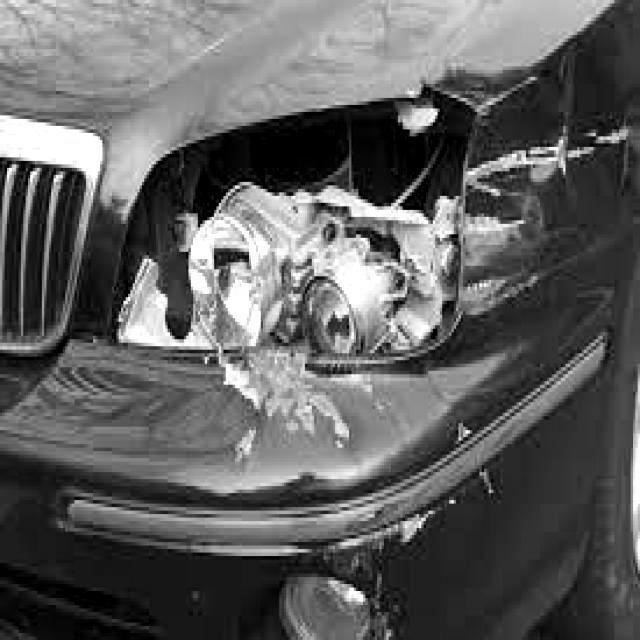Headlight-damage: (119, 105, 475, 392)
fender-dent: (462, 14, 639, 500)
front-bumper-dent: (0, 353, 548, 636)
